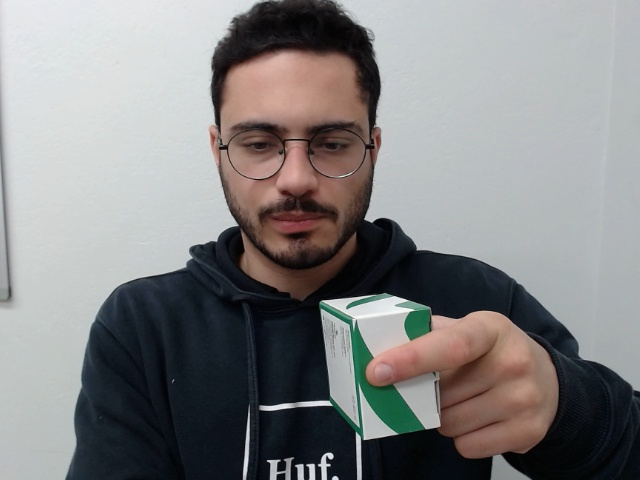divisor: (312, 288, 447, 444)
